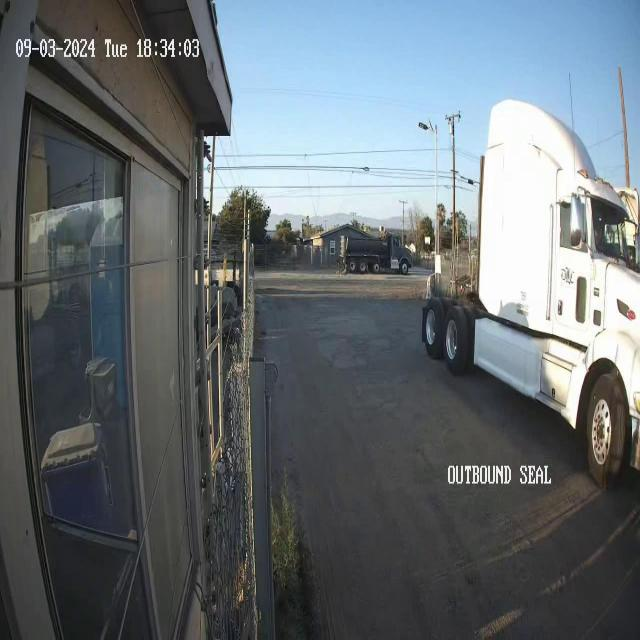TRUCK_IN: (421, 94, 639, 491)
